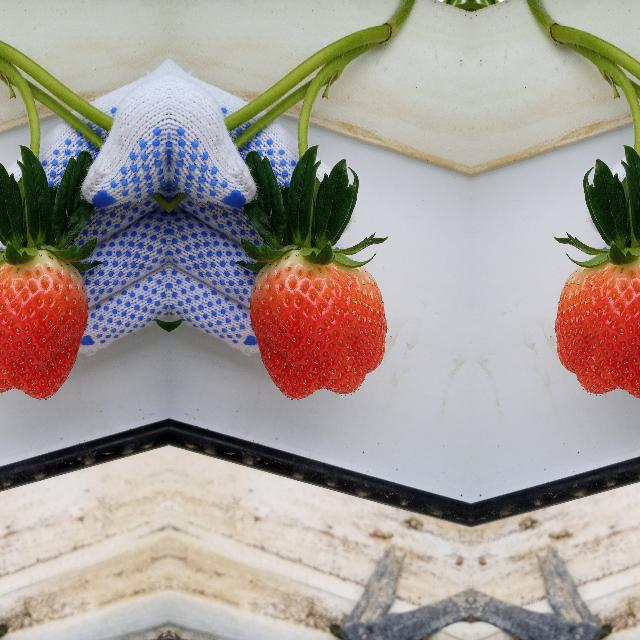Health_100: (248, 250, 388, 400), (0, 249, 88, 400), (553, 249, 640, 400)
